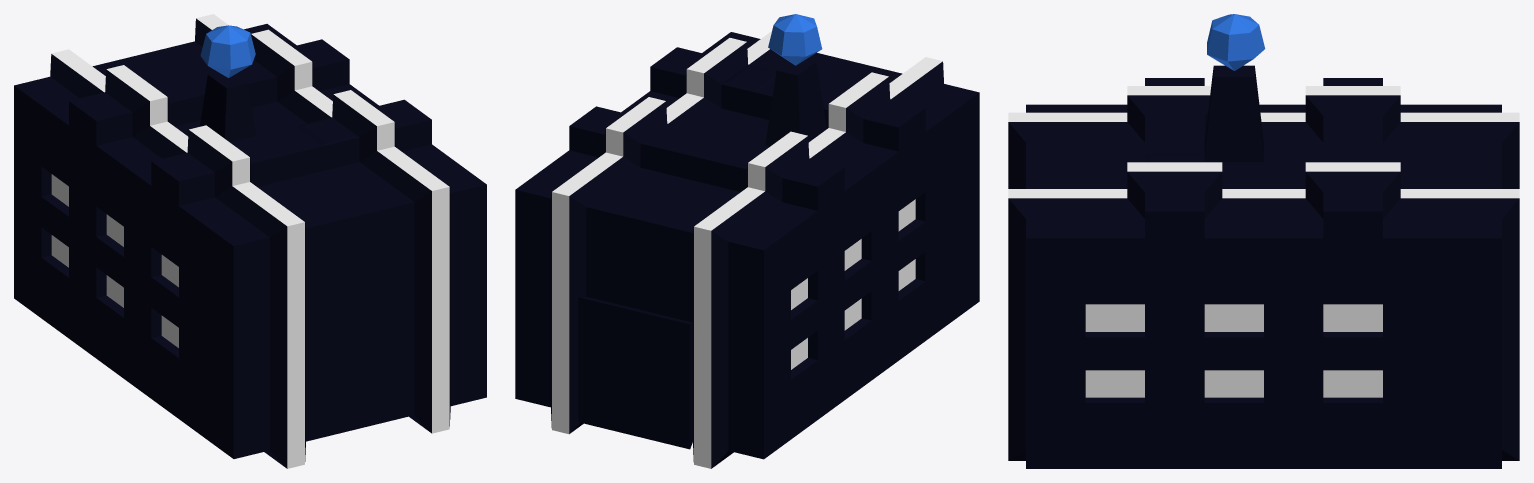
The model's file is rts-base.fbx.
The picture shows the model from 3 angles, left to right: view 1: azimuth 30°, elevation 25°; view 2: azimuth 150°, elevation 25°; view 3: azimuth 270°, elevation 25°; orthographic projection. The views are drawn at different scales.
Visible parts, largest first — view 1: Box001, Sphere001; view 2: Box001, Sphere001; view 3: Box001, Sphere001.
Part boxes in pixels (box(x1,y1,x2,y2)): Box001: box(14, 14, 486, 468); Sphere001: box(200, 25, 255, 77); Box001: box(515, 31, 979, 468); Sphere001: box(768, 14, 822, 65); Box001: box(1008, 65, 1519, 468); Sphere001: box(1207, 14, 1265, 70).
Size of the model in its own units: 28.18 by 37.86 by 45.51.
